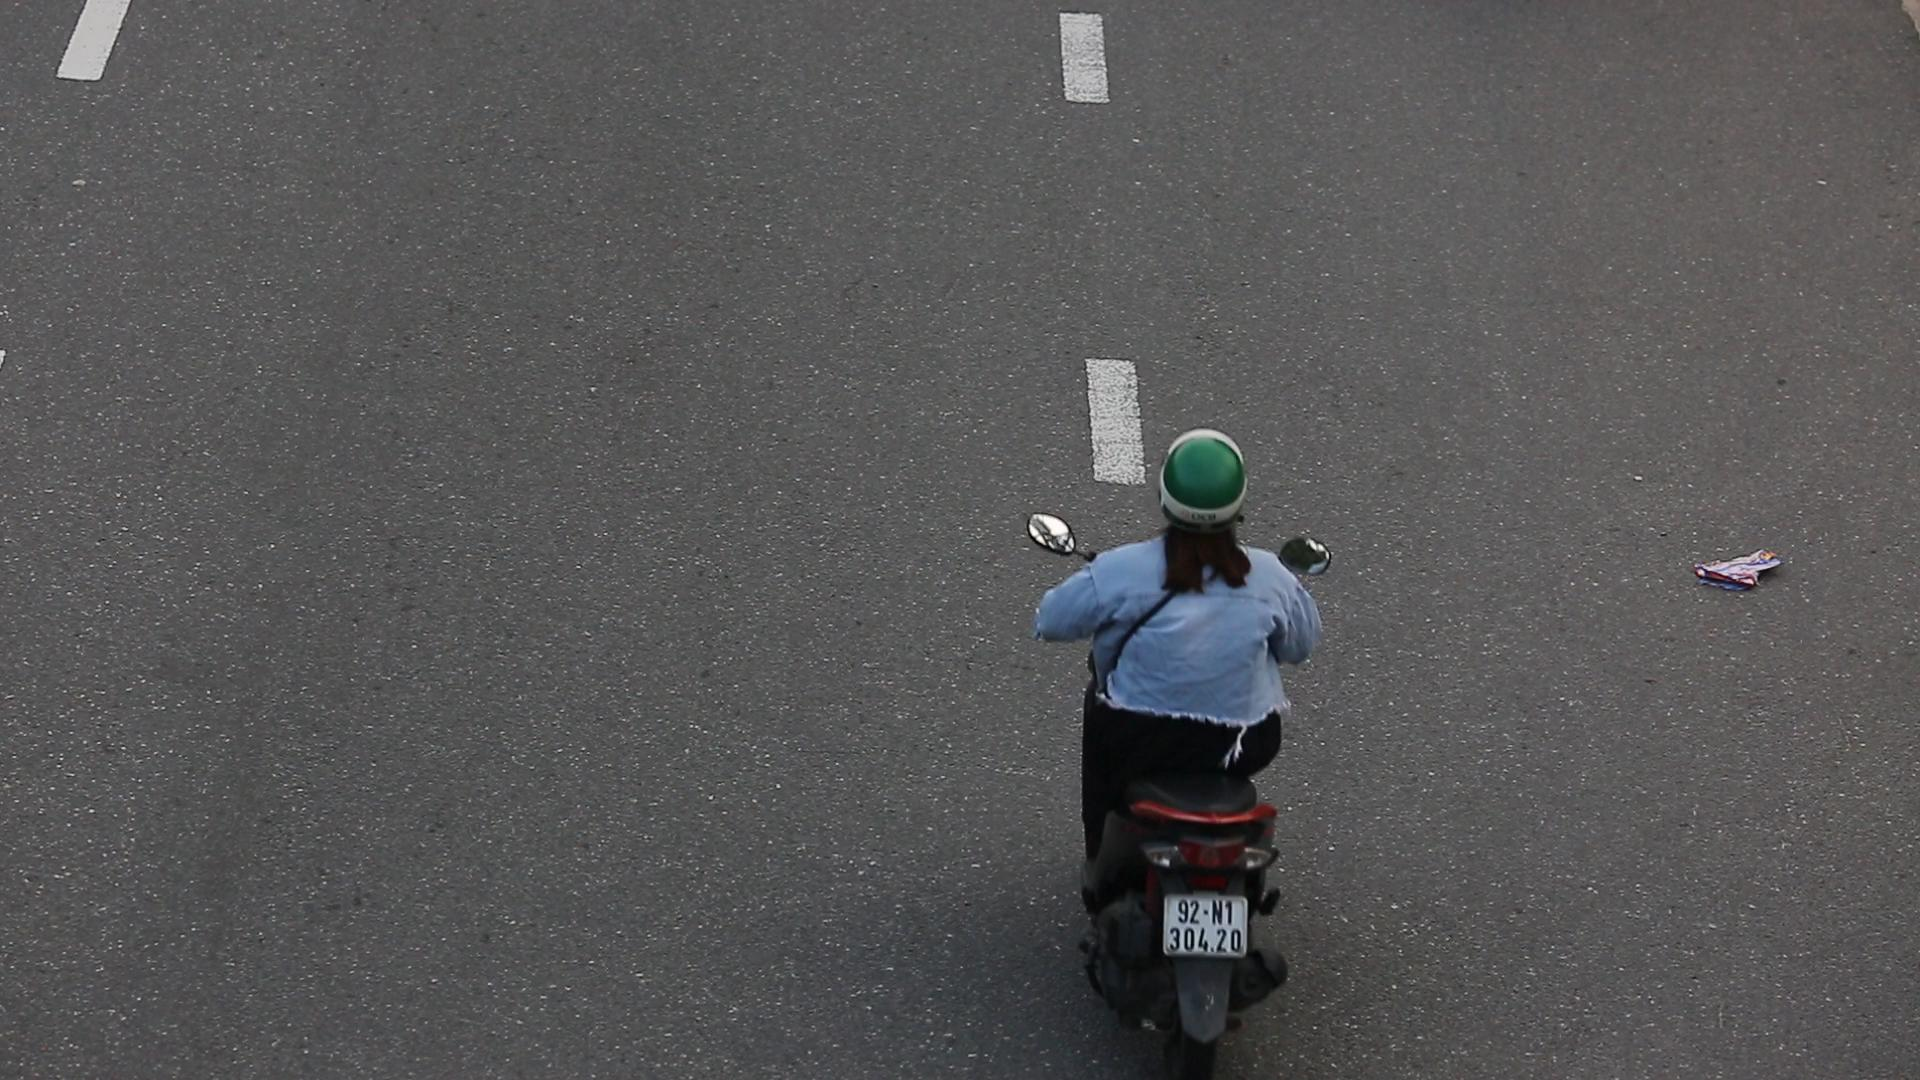motobike: (1004, 414, 1386, 1080)
